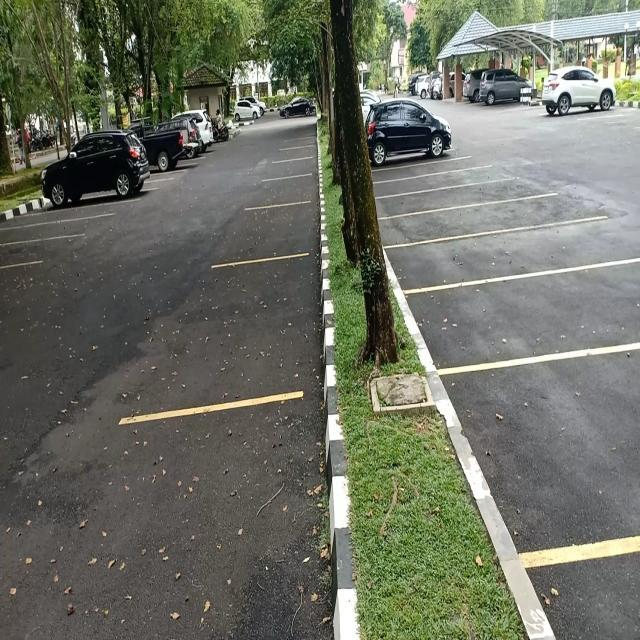empty: (468, 355, 640, 559), (200, 254, 320, 410), (431, 274, 634, 366), (398, 228, 556, 290), (238, 201, 318, 260), (381, 208, 528, 240), (394, 188, 480, 211), (262, 173, 315, 204), (0, 223, 91, 240), (388, 175, 471, 191)
occupied: (40, 141, 150, 210), (365, 104, 461, 168)
